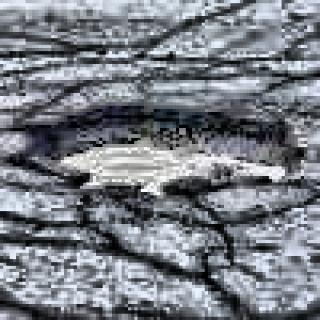alligator-crack: (0, 192, 320, 320), (0, 31, 320, 118)
pothole: (5, 99, 306, 203)
